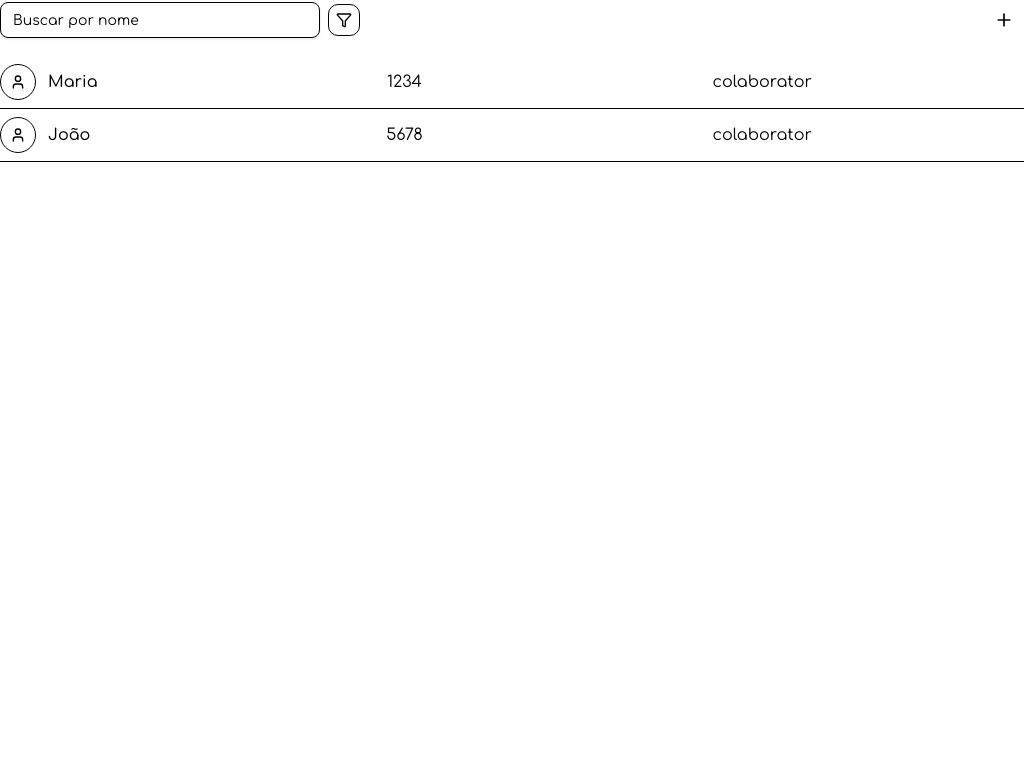
UserManager › closes modal on cancel
Step 1. Click the button "Maria 1234 colaborator" → (18, 82), box [0,56,1023,108]
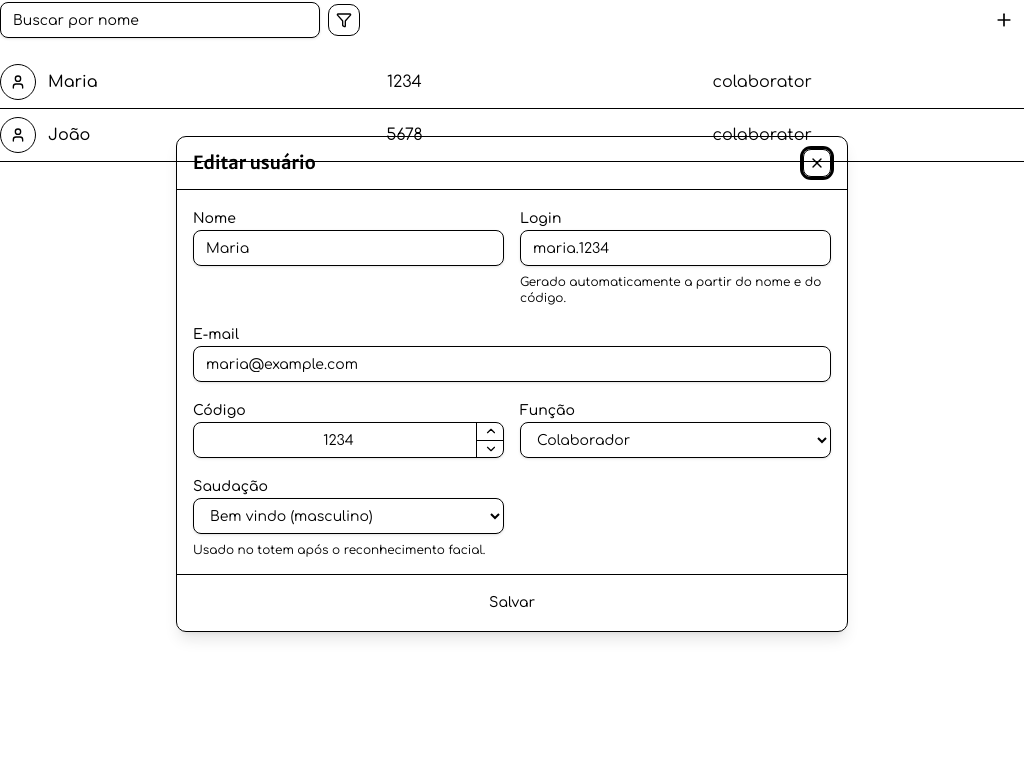
Step 2. Click the button named "Fechar" → (817, 163), box [803,149,831,177]
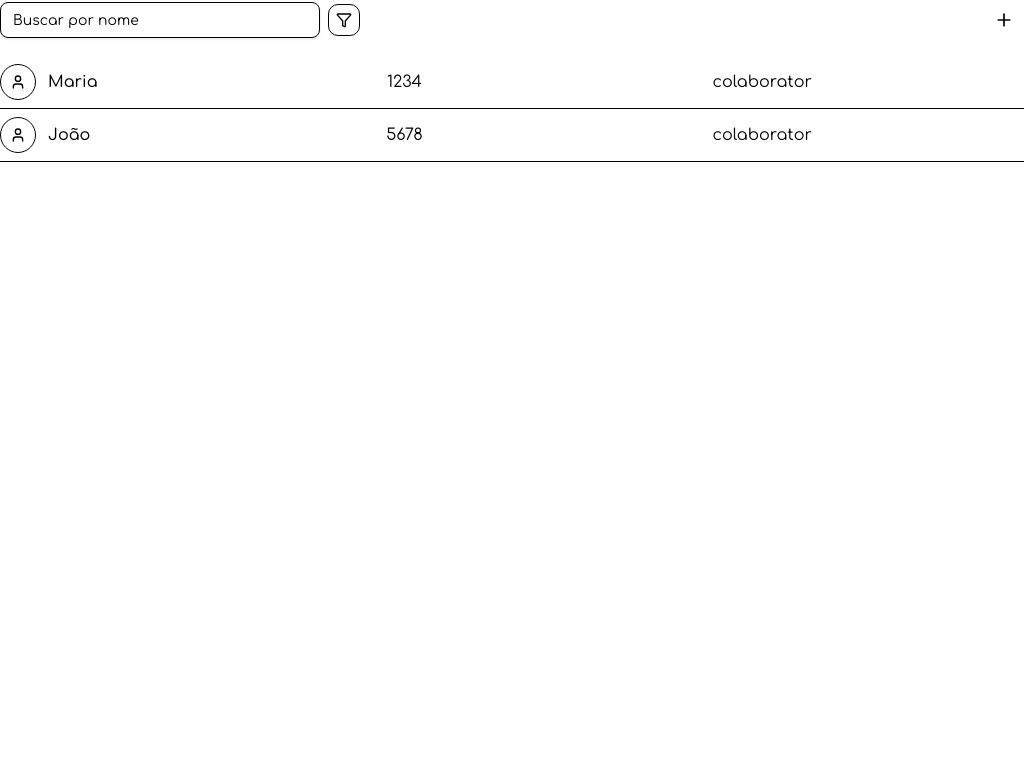
Check: the dialog is gone
